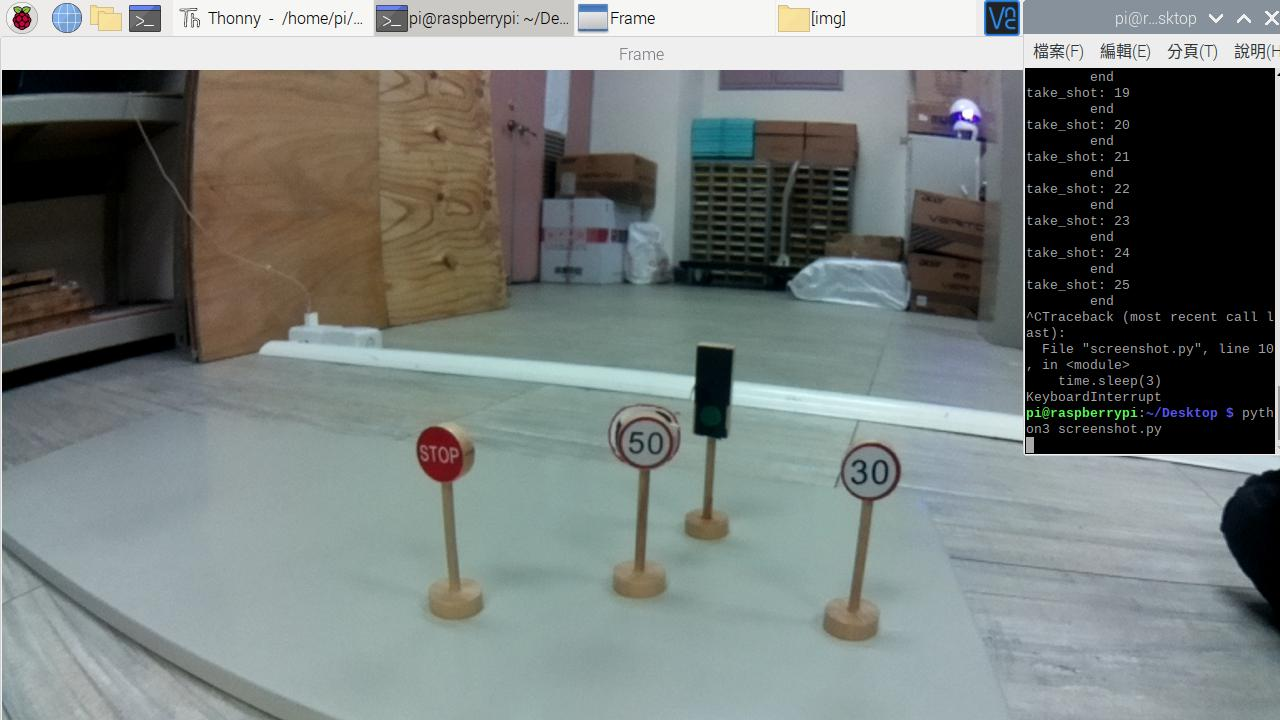Green: (687, 338, 740, 449)
Speed30: (835, 427, 907, 505)
Speed50: (609, 395, 687, 474)
Stop: (409, 418, 486, 490)
